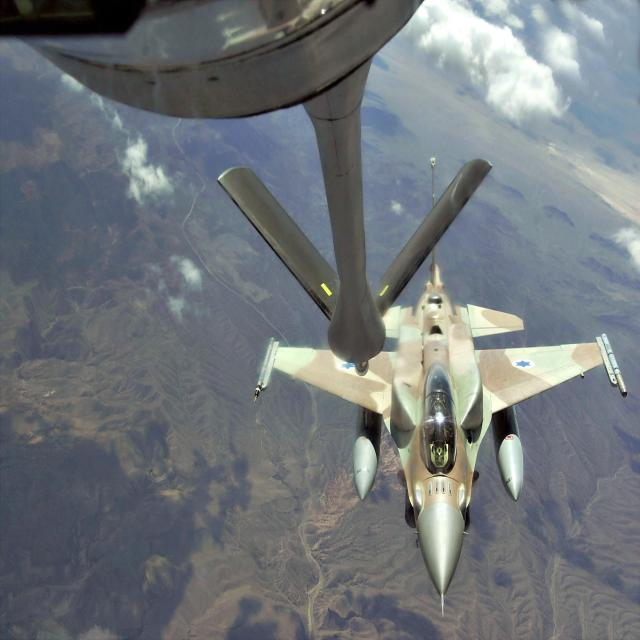MIL_Plane: (252, 158, 627, 622)
